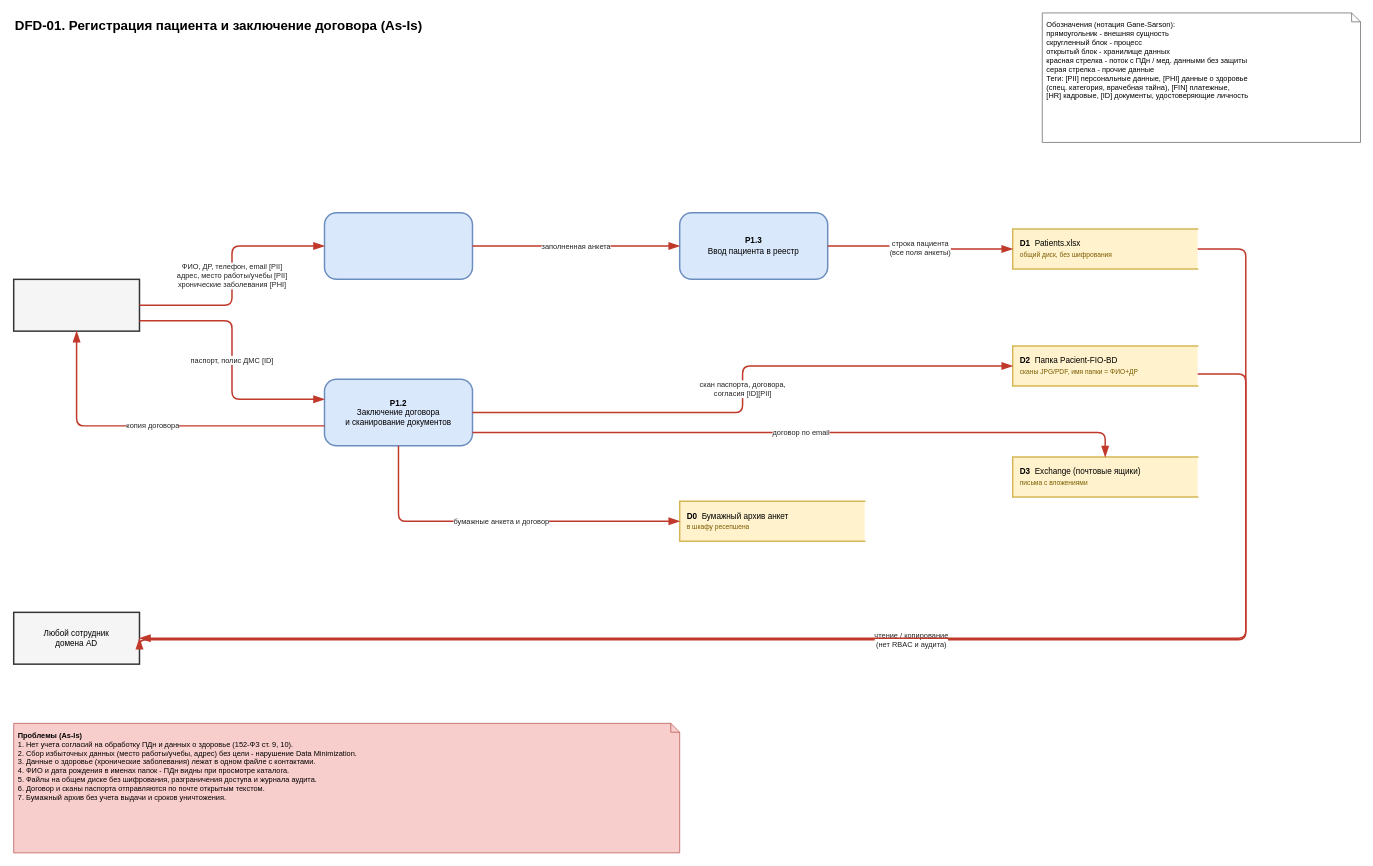
Image size: 1373x866. Some labels were removed from this diagram. Each missing label, with the centre of its shape:
"P1.1 Сбор анкеты (ресепшен, вручную)" belongs at [398,246].
"Пациент" belongs at [76,305].
